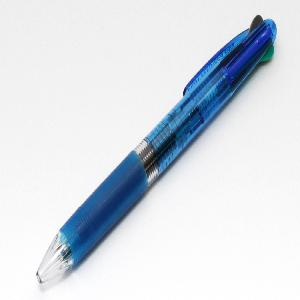pen: (30, 12, 284, 288)
